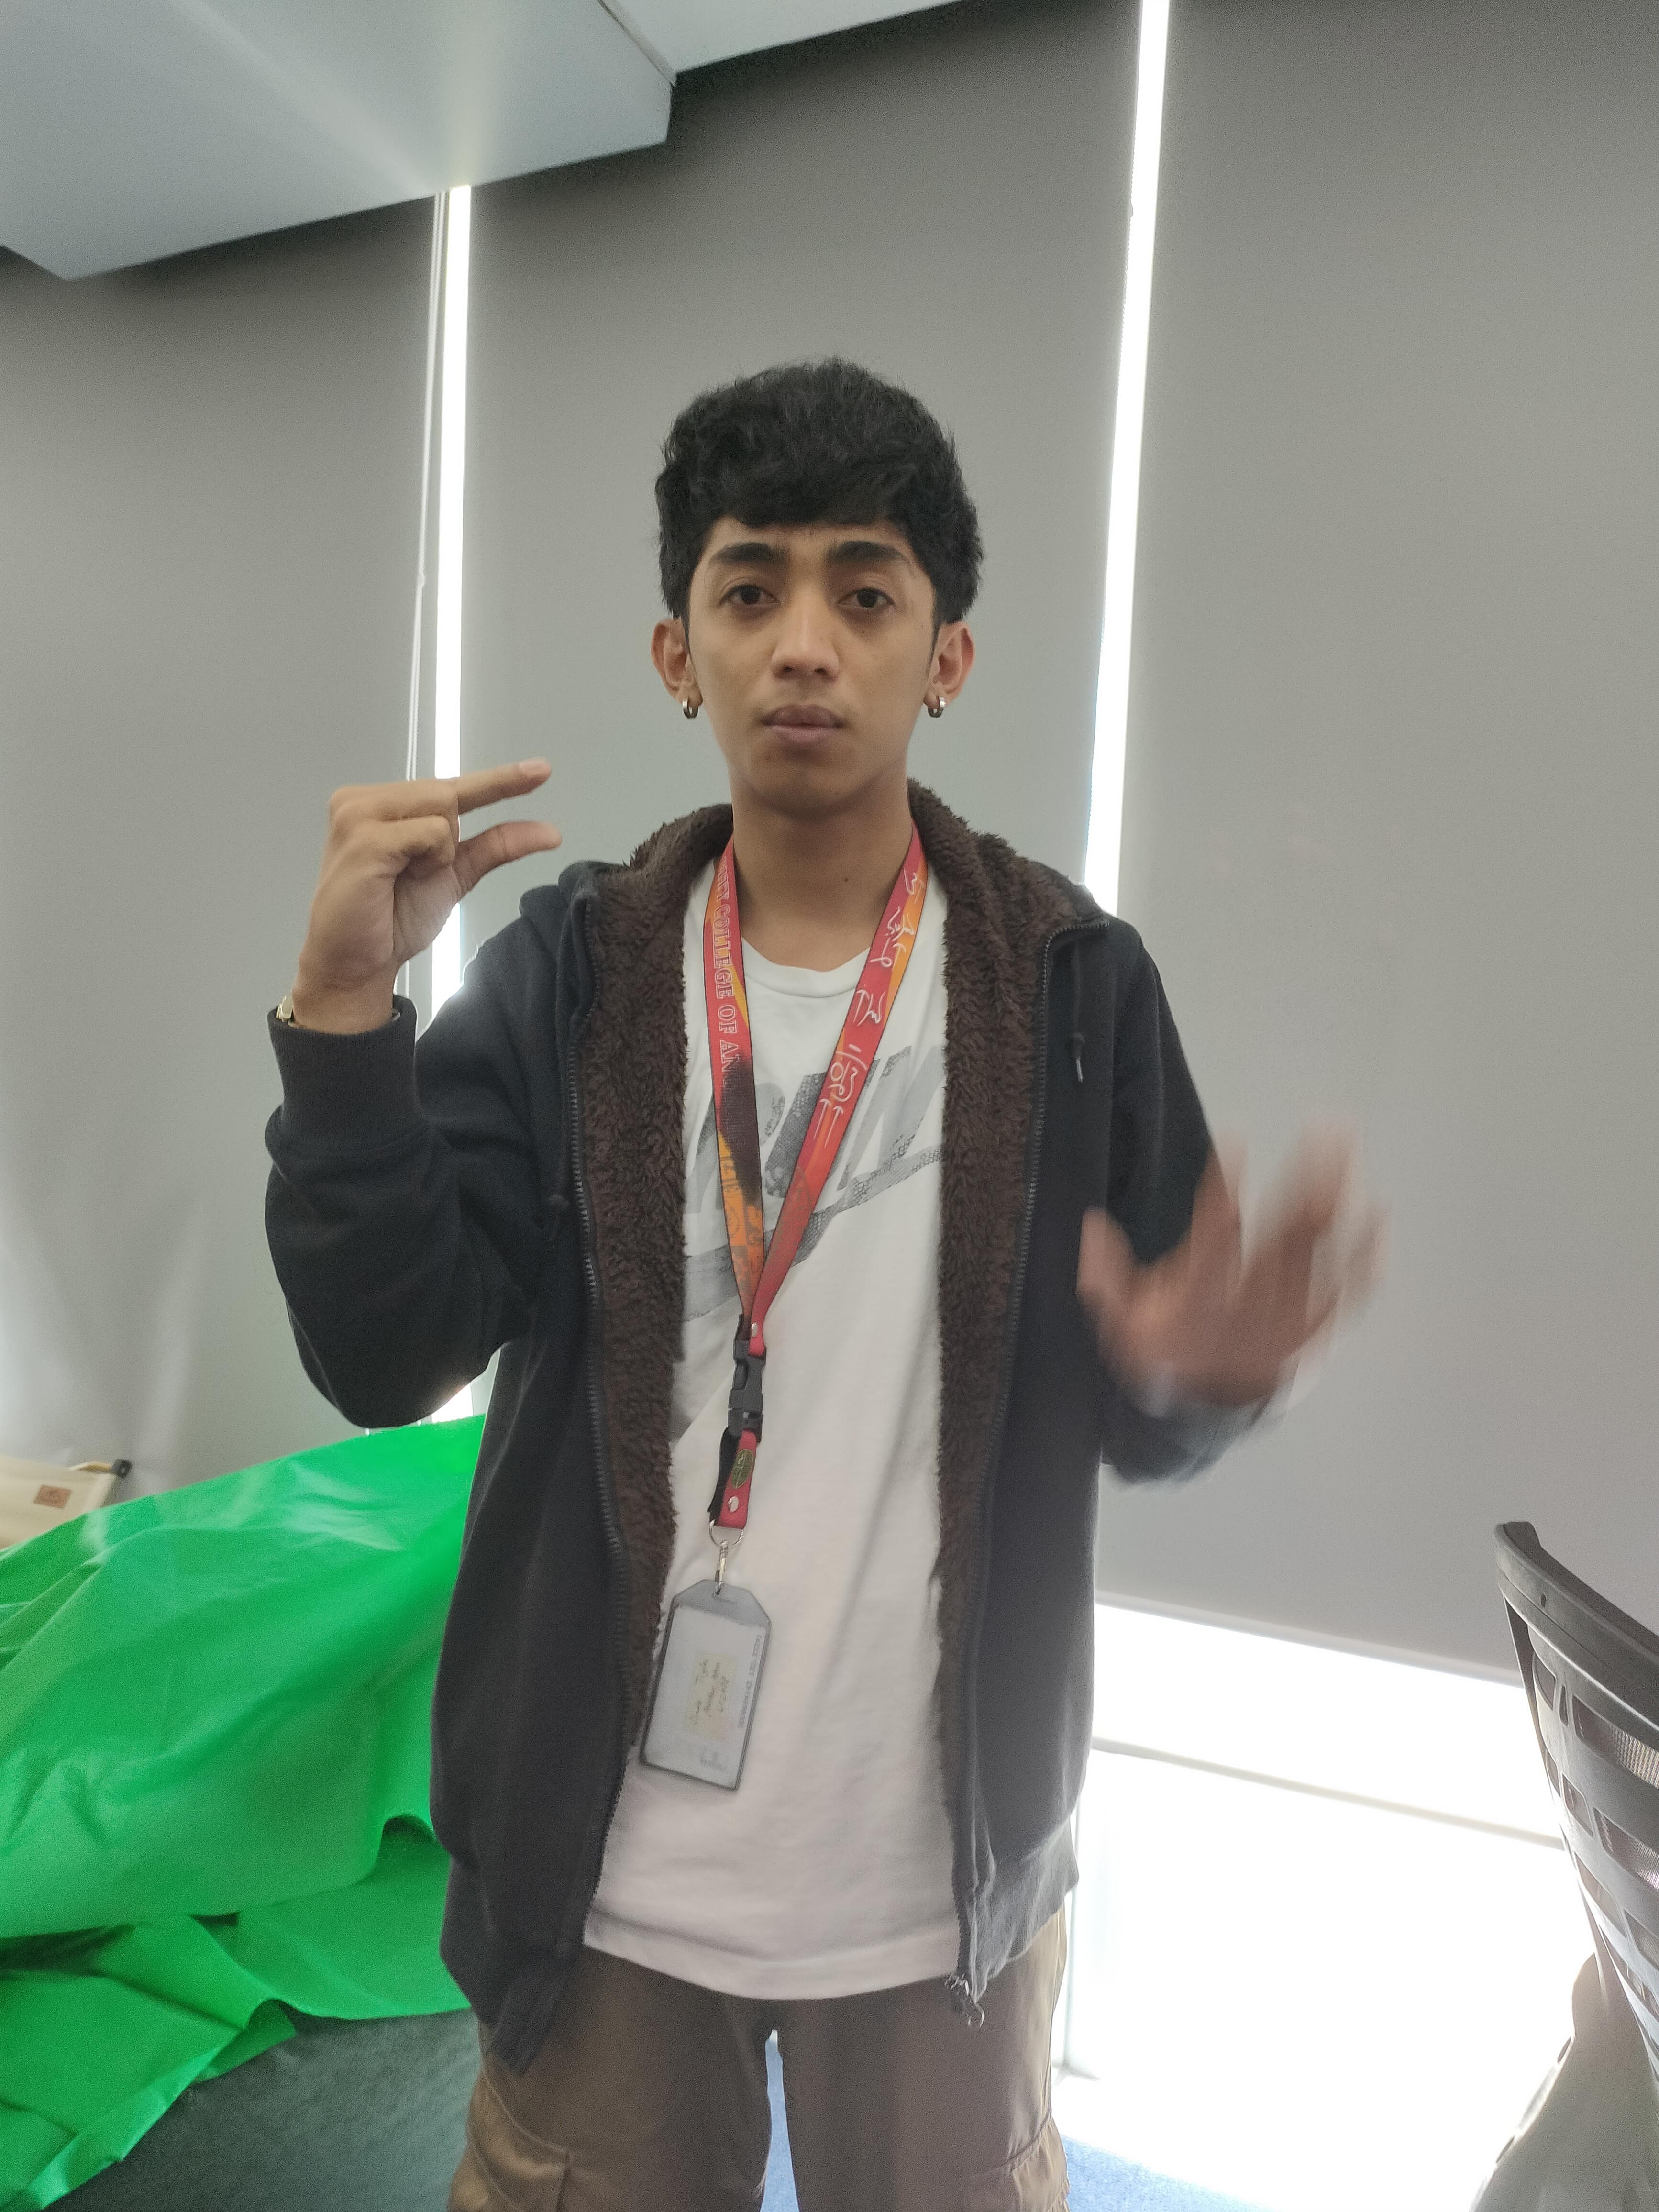No: (239, 754, 584, 967)
